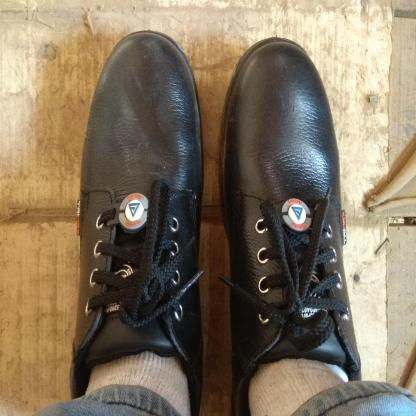bota: (216, 32, 365, 416), (66, 24, 208, 402)
